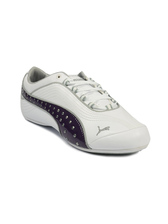shoes: (15, 57, 152, 161)
